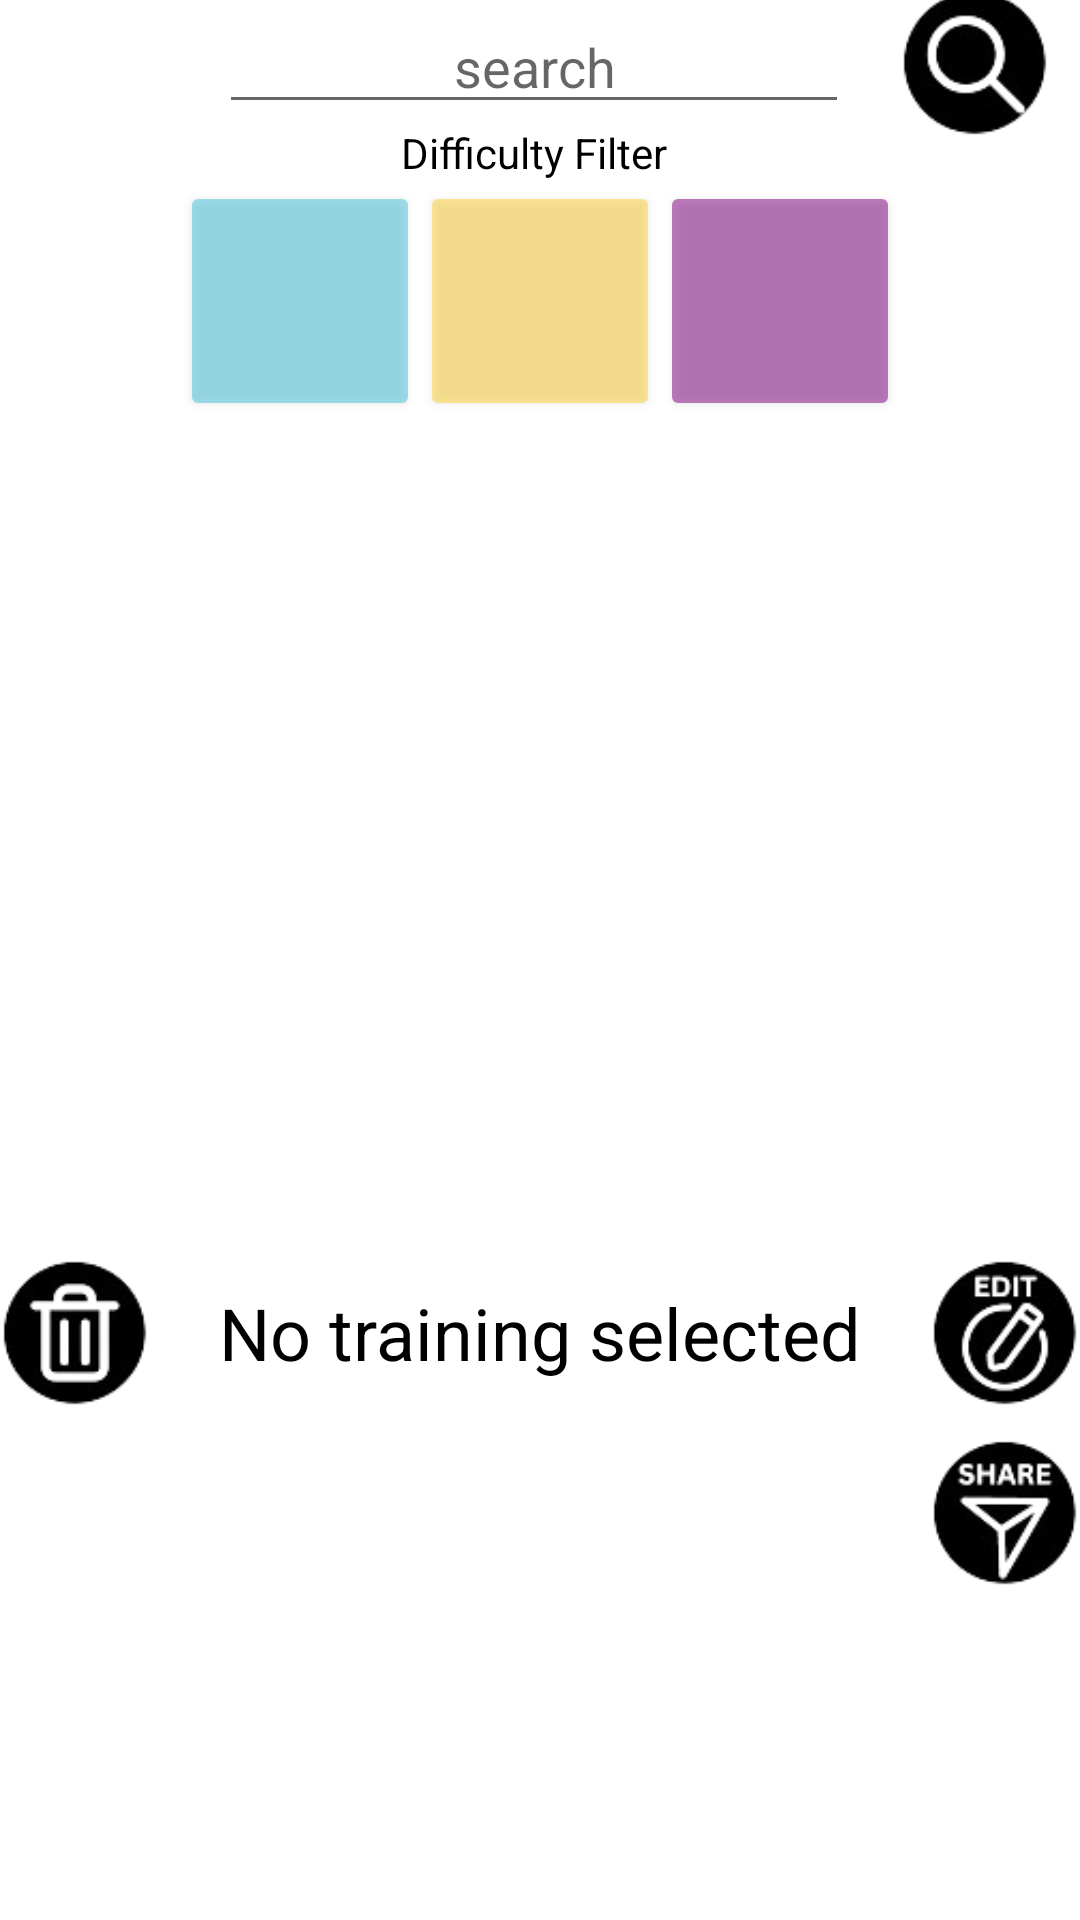

Named icons in this screenshot (1080 × 1920) and their centers, (x,y):
delete: (75,1333)
